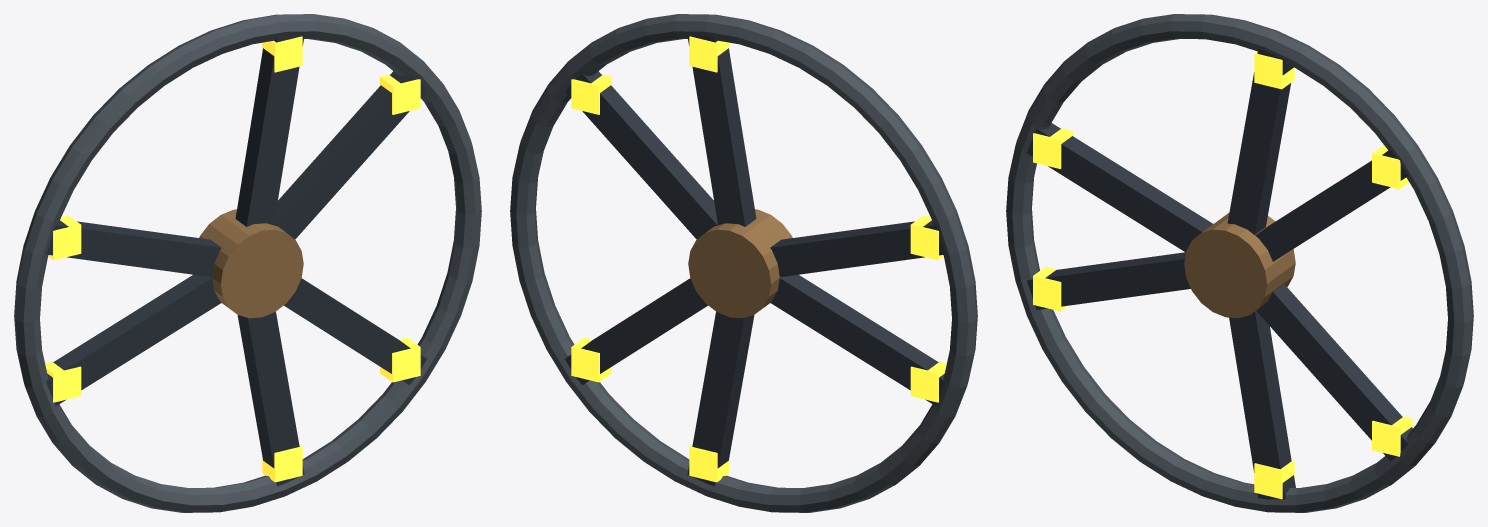
Rendered from 04_carousel_ring.glb.
The picture shows the model from 3 angles, left to right: view 1: azimuth 30°, elevation 25°; view 2: azimuth 150°, elevation 25°; view 3: azimuth 330°, elevation 25°; orthographic projection.
Visible parts, largest first — view 1: carousel_rim_nocol, carousel_hub, carousel_spoke_1, carousel_spoke_5, carousel_spoke_2, carousel_spoke_7, carousel_spoke_4, carousel_spoke_8, carousel_light_1_nocol, carousel_light_8_nocol, carousel_light_7_nocol, carousel_light_5_nocol (+2 smaller); view 2: carousel_rim_nocol, carousel_hub, carousel_spoke_1, carousel_spoke_5, carousel_spoke_2, carousel_spoke_7, carousel_spoke_4, carousel_spoke_8, carousel_light_1_nocol, carousel_light_8_nocol, carousel_light_7_nocol, carousel_light_5_nocol (+2 smaller); view 3: carousel_rim_nocol, carousel_hub, carousel_spoke_8, carousel_spoke_4, carousel_spoke_7, carousel_spoke_2, carousel_spoke_5, carousel_spoke_1, carousel_light_8_nocol, carousel_light_7_nocol, carousel_light_4_nocol, carousel_light_2_nocol (+2 smaller).
Part boxes in pixels (<box>): carousel_rim_nocol: <box>14,14,481,512</box>; carousel_hub: <box>199,209,303,318</box>; carousel_spoke_1: <box>274,71,427,239</box>; carousel_spoke_5: <box>46,274,221,406</box>; carousel_spoke_2: <box>235,35,304,226</box>; carousel_spoke_7: <box>237,312,304,486</box>; carousel_spoke_4: <box>46,220,221,277</box>; carousel_spoke_8: <box>284,278,426,385</box>; carousel_light_1_nocol: <box>380,74,420,114</box>; carousel_light_8_nocol: <box>380,337,420,382</box>; carousel_light_7_nocol: <box>262,444,302,482</box>; carousel_light_5_nocol: <box>45,361,81,402</box>; carousel_rim_nocol: <box>510,14,977,512</box>; carousel_hub: <box>688,209,792,318</box>; carousel_spoke_1: <box>564,71,717,239</box>; carousel_spoke_5: <box>770,274,945,406</box>; carousel_spoke_2: <box>687,35,756,226</box>; carousel_spoke_7: <box>687,312,754,486</box>; carousel_spoke_4: <box>770,220,945,277</box>; carousel_spoke_8: <box>565,278,707,385</box>; carousel_light_1_nocol: <box>571,74,611,114</box>; carousel_light_8_nocol: <box>571,337,611,382</box>; carousel_light_7_nocol: <box>689,444,729,482</box>; carousel_light_5_nocol: <box>910,361,946,402</box>; carousel_rim_nocol: <box>1006,14,1473,512</box>; carousel_hub: <box>1184,213,1295,318</box>; carousel_spoke_8: <box>1256,284,1412,461</box>; carousel_spoke_4: <box>1027,123,1212,252</box>; carousel_spoke_7: <box>1229,311,1295,499</box>; carousel_spoke_2: <box>1227,49,1293,234</box>; carousel_spoke_5: <box>1027,252,1190,309</box>; carousel_spoke_1: <box>1255,150,1407,261</box>; carousel_light_8_nocol: <box>1372,416,1412,456</box>; carousel_light_7_nocol: <box>1254,460,1294,499</box>; carousel_light_4_nocol: <box>1033,128,1073,168</box>; carousel_light_2_nocol: <box>1254,51,1294,89</box>.
Bounding box in the file's own units: 16.84 × 16.84 × 1.8.
